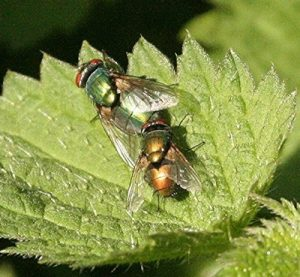green bottles fly: (56, 43, 143, 136)
